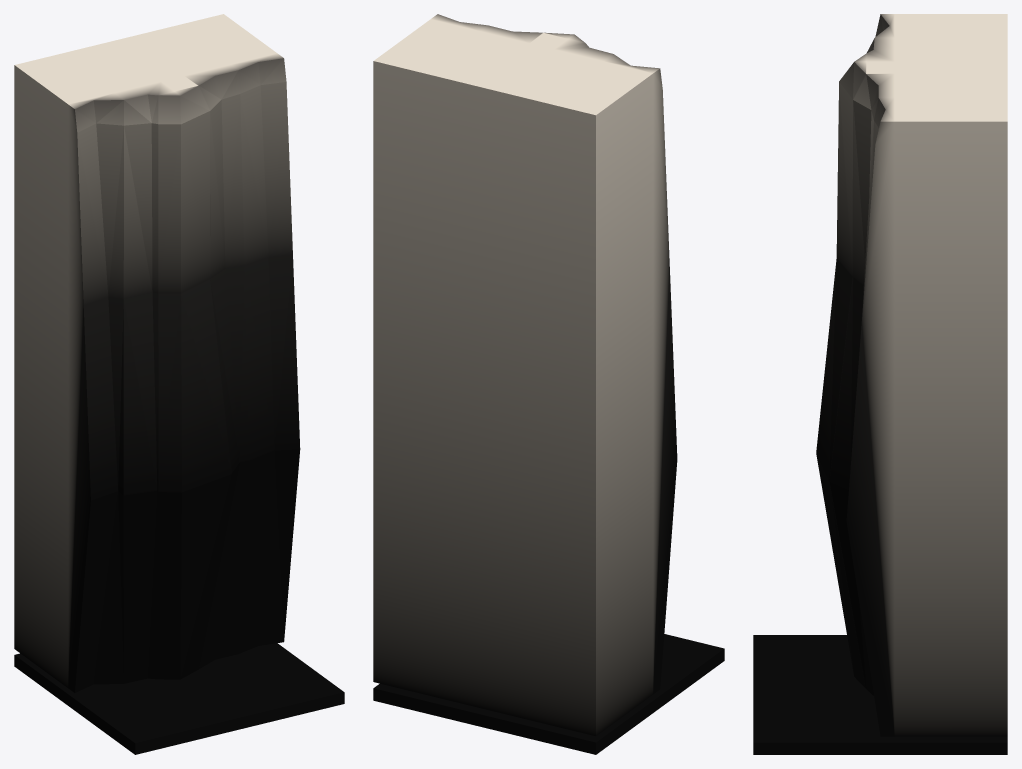
File: SM_VKI_Ground_Cave_XXOO_Q00.fbx
3 renders of one model, left to right at view 1: azimuth 30°, elevation 25°; view 2: azimuth 150°, elevation 25°; view 3: azimuth 270°, elevation 25°, orthographic. The views are drawn at different scales.
Visible parts, largest first — view 1: SM_VKI_Ground_Cave_XXOO_Q00.001; view 2: SM_VKI_Ground_Cave_XXOO_Q00.001; view 3: SM_VKI_Ground_Cave_XXOO_Q00.001.
Boxes of the visible parts, left/top/right/bottom form: SM_VKI_Ground_Cave_XXOO_Q00.001: left=14, top=14, right=344, bottom=754; SM_VKI_Ground_Cave_XXOO_Q00.001: left=373, top=14, right=724, bottom=754; SM_VKI_Ground_Cave_XXOO_Q00.001: left=753, top=14, right=1007, bottom=754.
Size of the model in its own units: 1.5 by 4.12 by 1.5.
